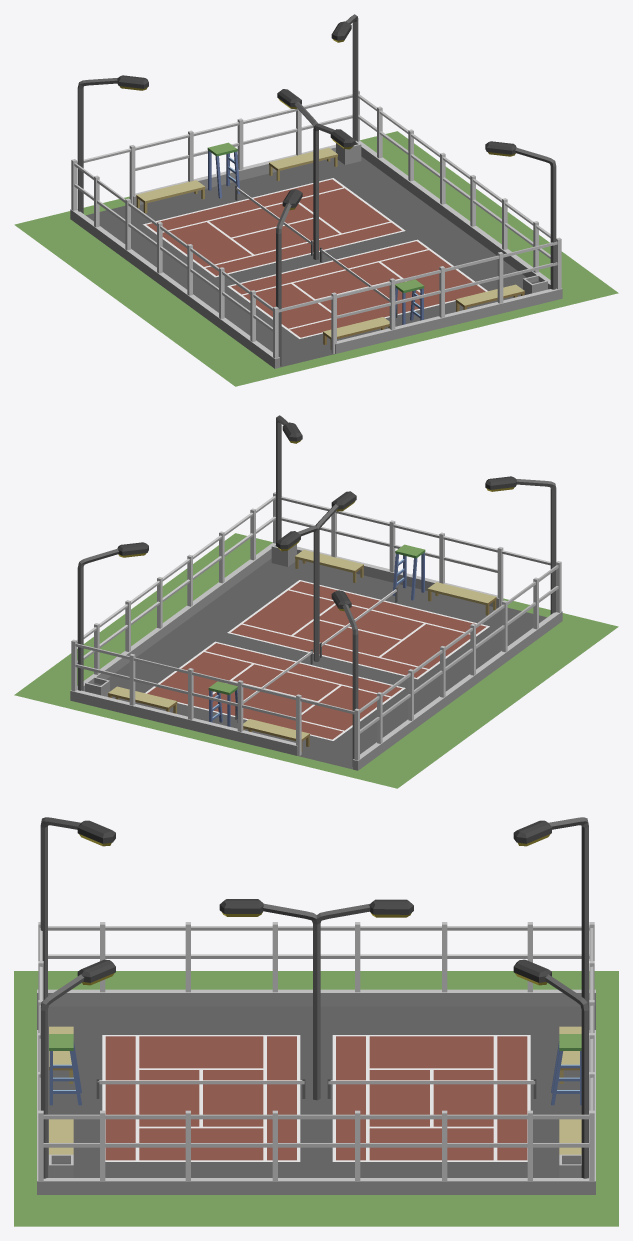
The model's file is landscape_entertainment_007.fbx.
3 views of the same model, one above another, from view 1: azimuth 30°, elevation 25°; view 2: azimuth 150°, elevation 25°; view 3: azimuth 270°, elevation 25° (orthographic). The views are drawn at different scales.
Parts seen in each view (by area): view 1: landscape_entertainment_007; view 2: landscape_entertainment_007; view 3: landscape_entertainment_007.
Part boxes in pixels (box(x1,y1,x2,y2)): landscape_entertainment_007: box(14, 14, 618, 386); landscape_entertainment_007: box(14, 415, 618, 788); landscape_entertainment_007: box(14, 817, 618, 1226).
Bounding box in the file's own units: 1600 × 617 × 1600.
